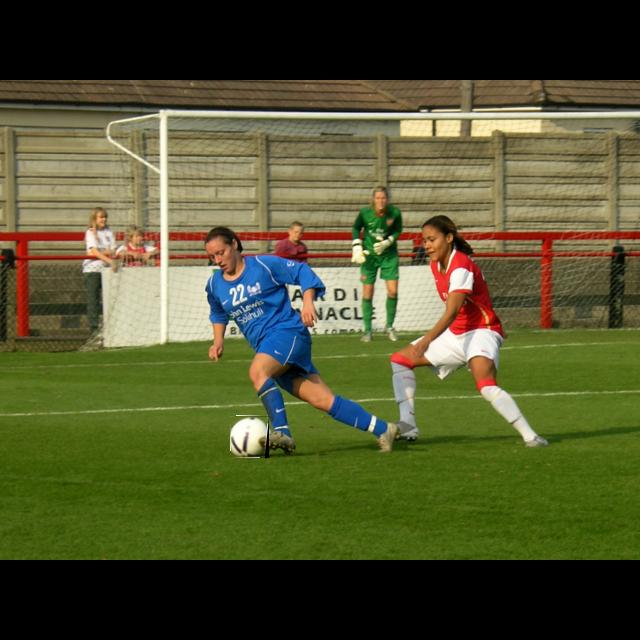Football: (231, 416, 269, 458)
